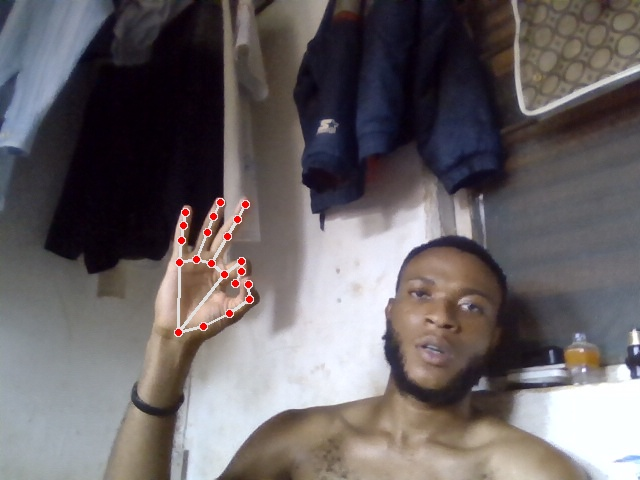okay: (154, 194, 261, 349)
